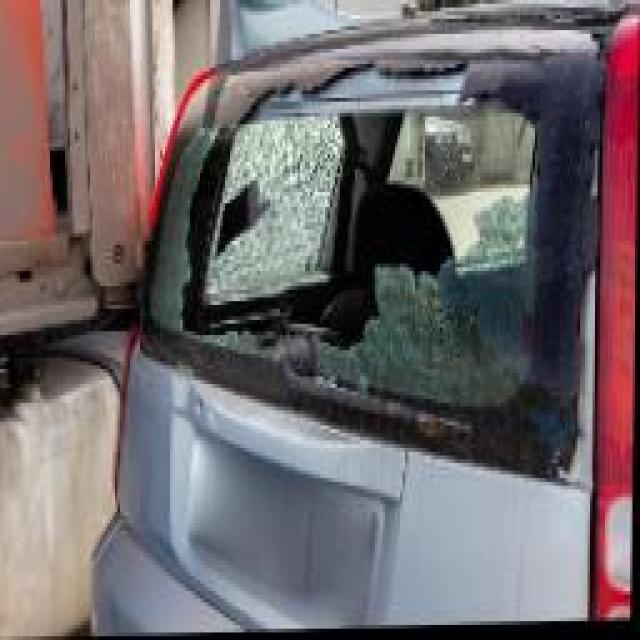Windshield: (141, 68, 567, 446)
